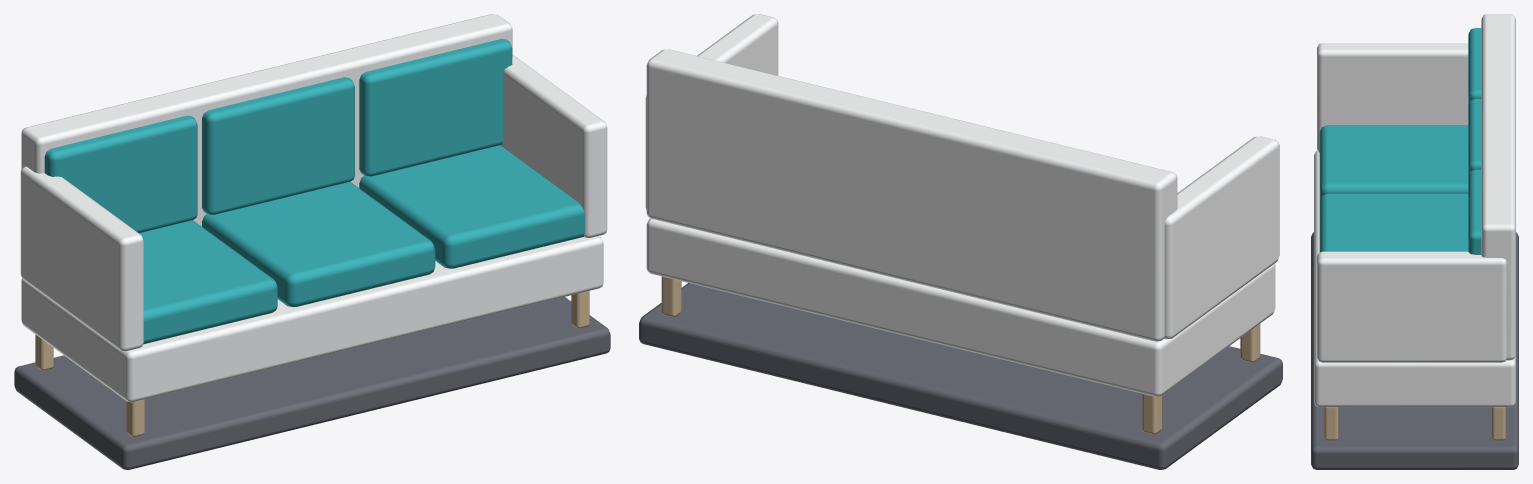
3 renders of one model, left to right at view 1: azimuth 30°, elevation 25°; view 2: azimuth 150°, elevation 25°; view 3: azimuth 270°, elevation 25°, orthographic. The views are drawn at different scales.
Visible parts, largest first — view 1: waiting-sofa-run; view 2: waiting-sofa-run; view 3: waiting-sofa-run.
Part boxes in pixels (x1,y1,x2,y2): waiting-sofa-run: (14,14,610,469); waiting-sofa-run: (639,14,1282,469); waiting-sofa-run: (1311,14,1518,469).
Bounding box in the file's own units: 1.8 × 0.93 × 0.7199.
